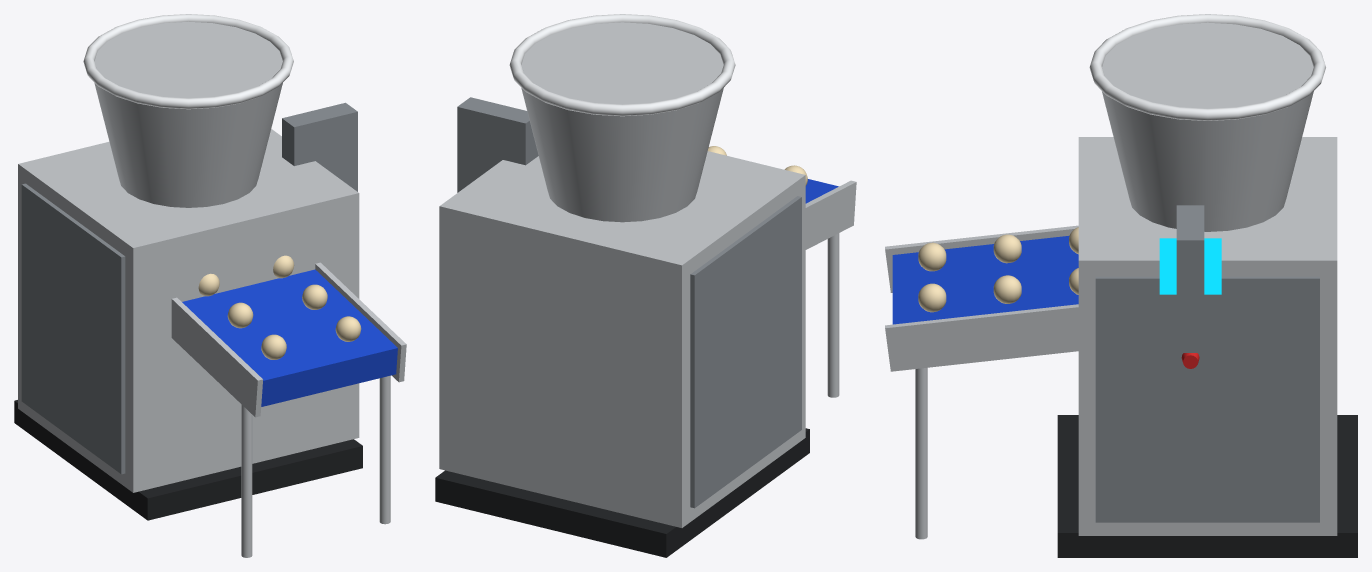
Rendered from moulder.glb.
The picture shows the model from 3 angles, left to right: view 1: azimuth 30°, elevation 25°; view 2: azimuth 150°, elevation 25°; view 3: azimuth 270°, elevation 25°; orthographic projection. The views are drawn at different scales.
Parts seen in each view (by area): view 1: Moulder_Koenig_MiniRex; view 2: Moulder_Koenig_MiniRex; view 3: Moulder_Koenig_MiniRex.
Boxes of the visible parts, box(x1,y1,x2,y2) form: Moulder_Koenig_MiniRex: box(14, 14, 406, 557); Moulder_Koenig_MiniRex: box(435, 14, 856, 557); Moulder_Koenig_MiniRex: box(885, 14, 1357, 557).
Bounding box in the file's own units: 1.03 × 1.4 × 1.37.
